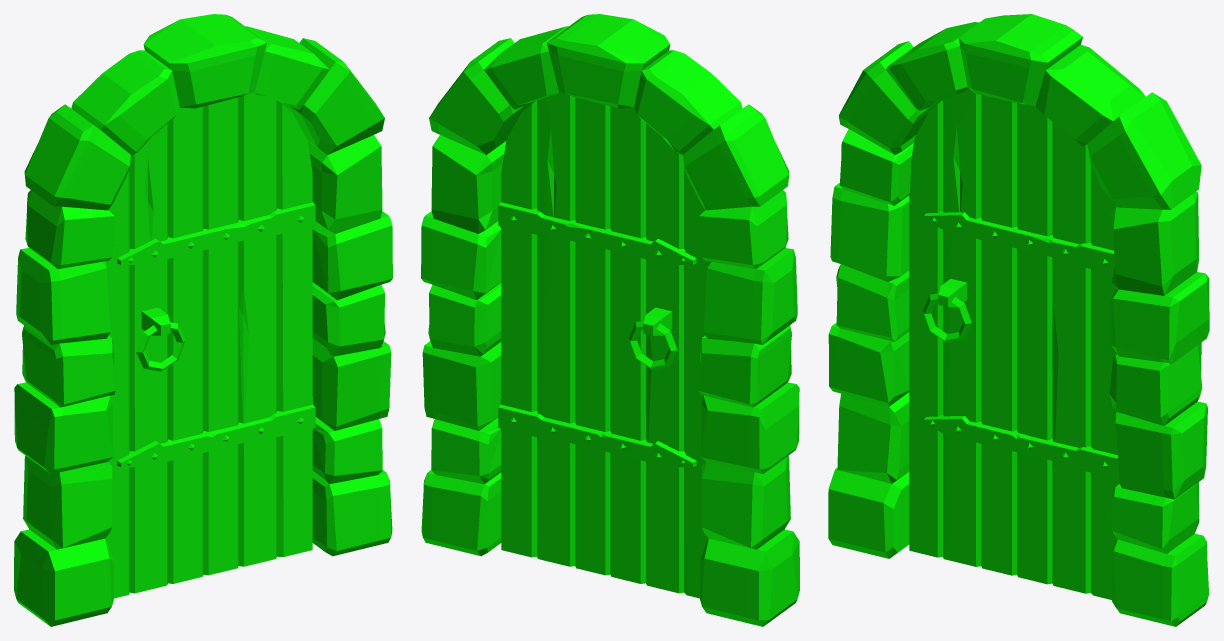
Rendered from SM_Door_Single_A_Regular_Fantasy.fbx.
The picture shows the model from 3 angles, left to right: view 1: azimuth 30°, elevation 25°; view 2: azimuth 150°, elevation 25°; view 3: azimuth 330°, elevation 25°; orthographic projection.
Parts seen in each view (by area): view 1: door-single-a-regular-fantasy-frame, door-single-a-regular-fantasy-door; view 2: door-single-a-regular-fantasy-frame, door-single-a-regular-fantasy-door; view 3: door-single-a-regular-fantasy-frame, door-single-a-regular-fantasy-door.
Boxes of the visible parts, left/top/right/bottom form: door-single-a-regular-fantasy-frame: left=14, top=14, right=392, bottom=626; door-single-a-regular-fantasy-door: left=105, top=93, right=315, bottom=598; door-single-a-regular-fantasy-frame: left=421, top=14, right=799, bottom=626; door-single-a-regular-fantasy-door: left=498, top=93, right=708, bottom=598; door-single-a-regular-fantasy-frame: left=828, top=14, right=1209, bottom=626; door-single-a-regular-fantasy-door: left=909, top=89, right=1119, bottom=599.
Size of the model in its own units: 1.63 by 2.44 by 0.3415.
